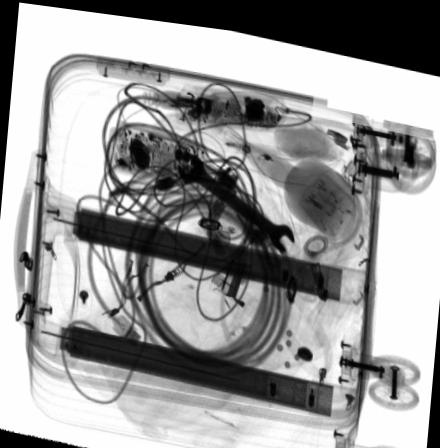Wrench: (176, 148, 295, 244)
